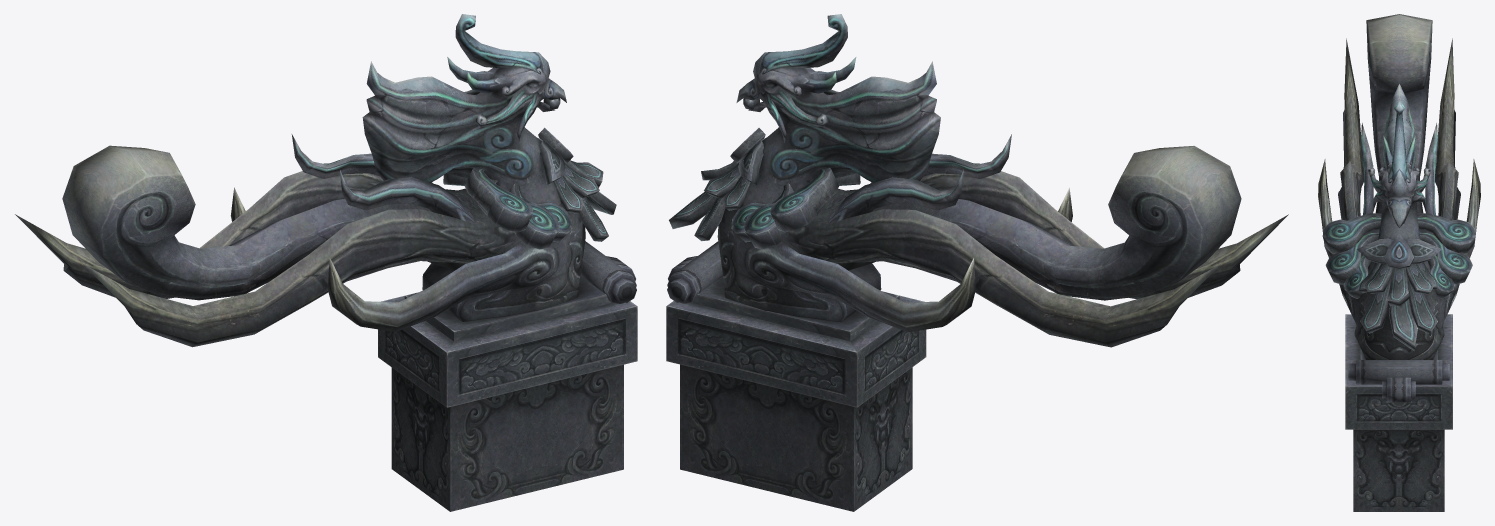
Rendered from diao_su_001.FBX.
The picture shows the model from 3 angles, left to right: view 1: azimuth 30°, elevation 25°; view 2: azimuth 150°, elevation 25°; view 3: azimuth 270°, elevation 25°; orthographic projection. The views are drawn at different scales.
Parts seen in each view (by area): view 1: diao_su_001_a01; view 2: diao_su_001_a01; view 3: diao_su_001_a01.
Part boxes in pixels (<box>): diao_su_001_a01: <box>15,14,637,511</box>; diao_su_001_a01: <box>666,14,1288,511</box>; diao_su_001_a01: <box>1318,14,1480,511</box>.
Size of the model in its own units: 1224 by 940 by 383.
Materials: 1 (1 with a texture image).
